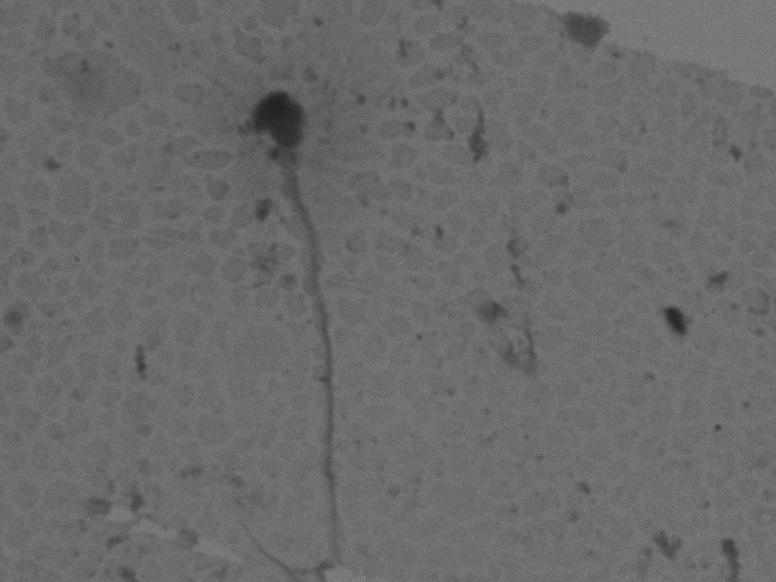Abnormal: (202, 78, 371, 567)
